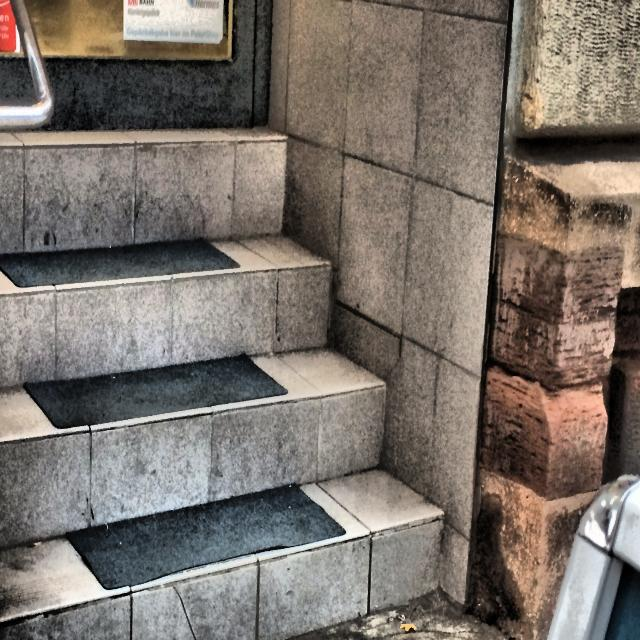escada: (2, 131, 444, 640)
